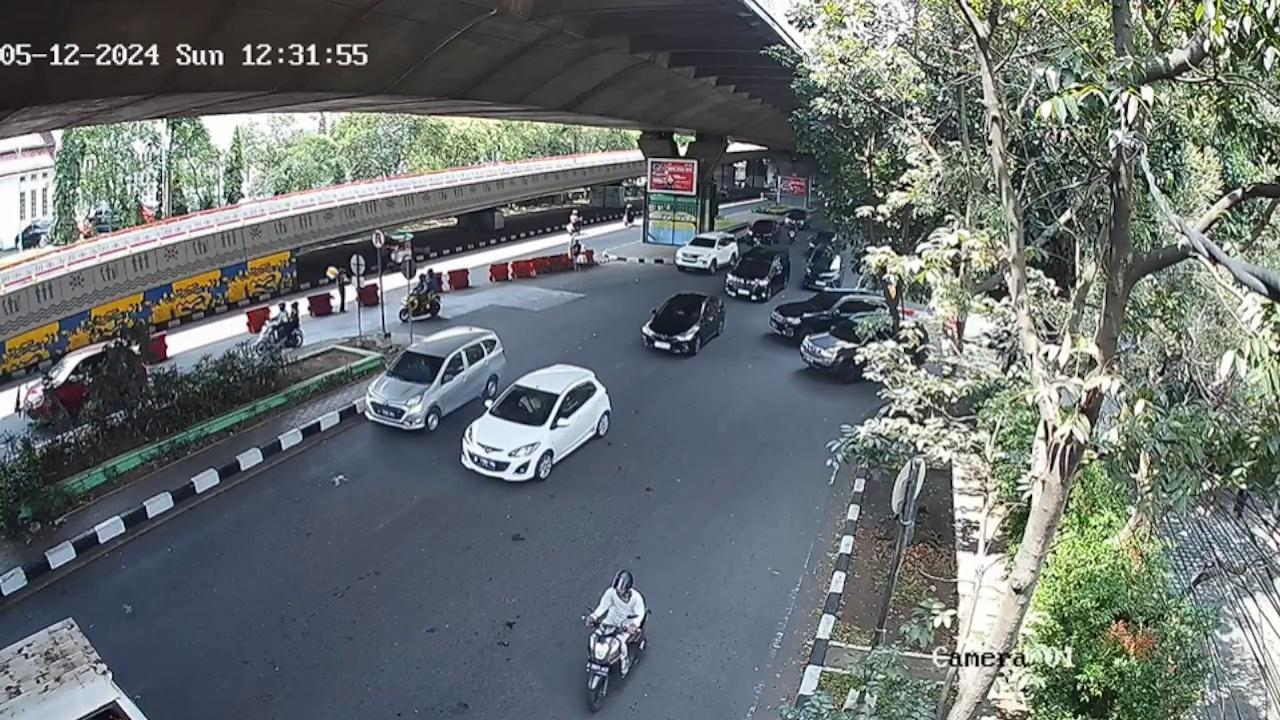pakai: (516, 393, 546, 417)
windshield: (489, 383, 560, 425), (385, 351, 440, 381)
